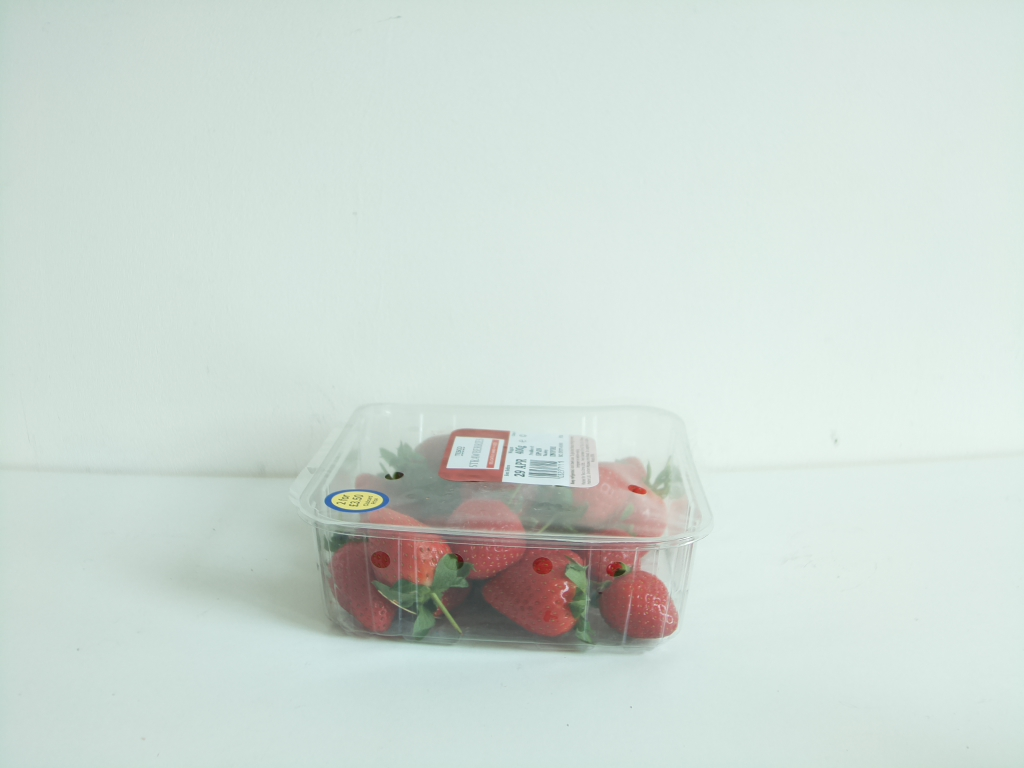soft-fruit: (291, 396, 712, 663)
